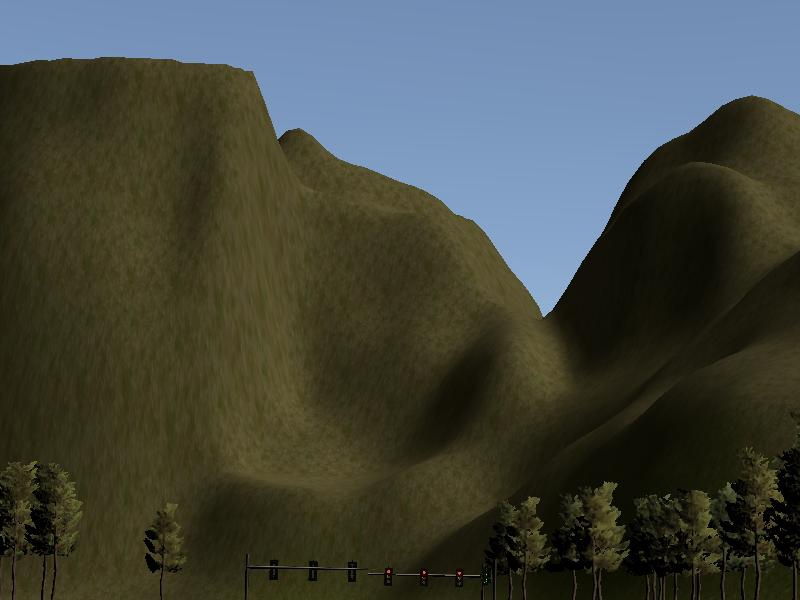Red: (383, 568, 392, 588), (455, 569, 463, 588), (421, 568, 428, 588)
